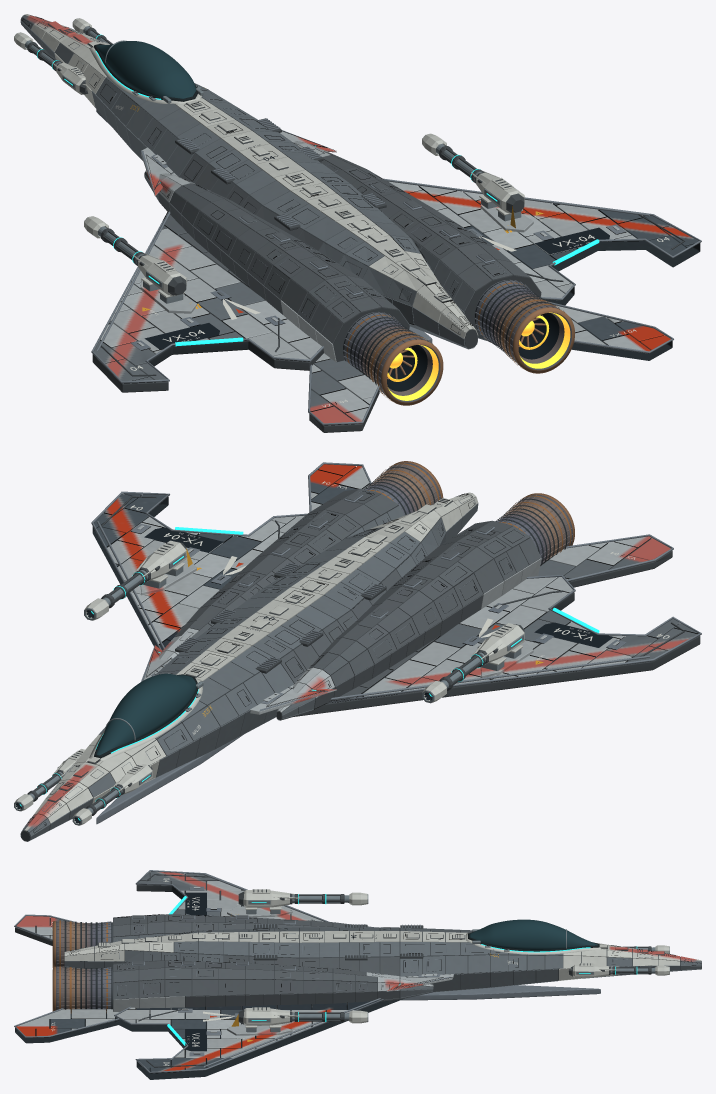
3 renders of one model, top to bottom at view 1: azimuth 30°, elevation 25°; view 2: azimuth 150°, elevation 25°; view 3: azimuth 270°, elevation 25°, orthographic. The views are drawn at different scales.
Parts seen in each view (by area): view 1: VX04_Mesh; view 2: VX04_Mesh; view 3: VX04_Mesh.
Part boxes in pixels (x1,y1,x2,y2): VX04_Mesh: (14, 14, 701, 432); VX04_Mesh: (14, 461, 701, 841); VX04_Mesh: (14, 870, 701, 1079).
Size of the model in its own units: 14.28 by 2.46 by 20.5.
Materials: 4 (1 with a texture image).
